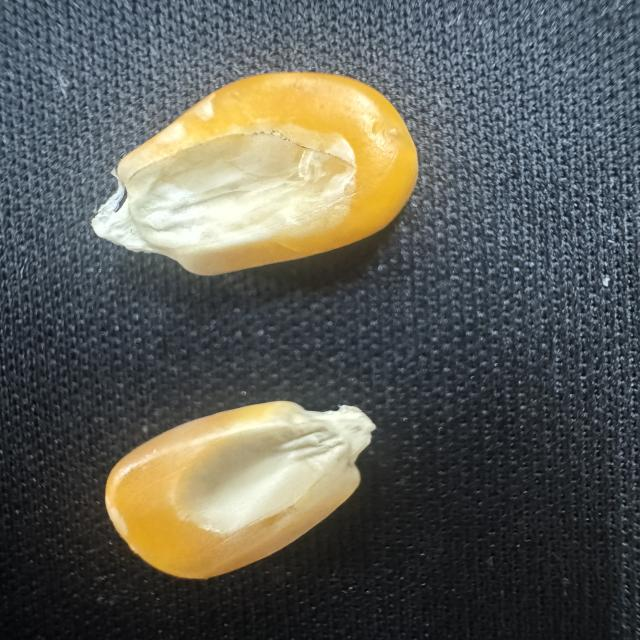Good-Seed: (86, 67, 424, 279), (103, 395, 386, 584)
